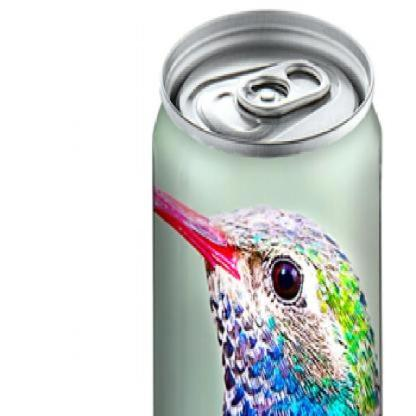Can: (152, 6, 382, 416)
